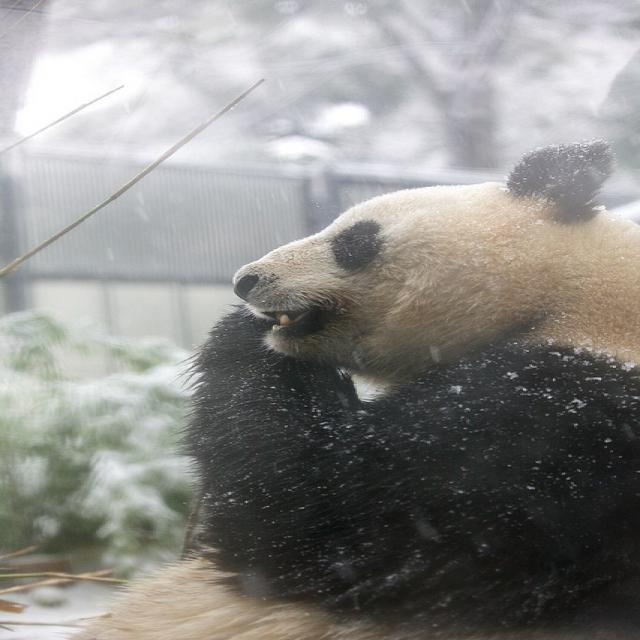Bear: (169, 135, 640, 640)
